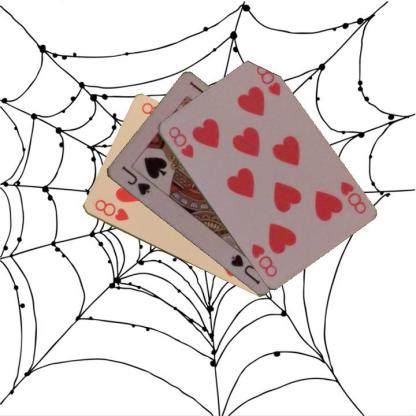8h: (337, 178, 367, 215), (165, 124, 195, 160), (91, 197, 130, 223)
Js: (119, 163, 152, 199)
